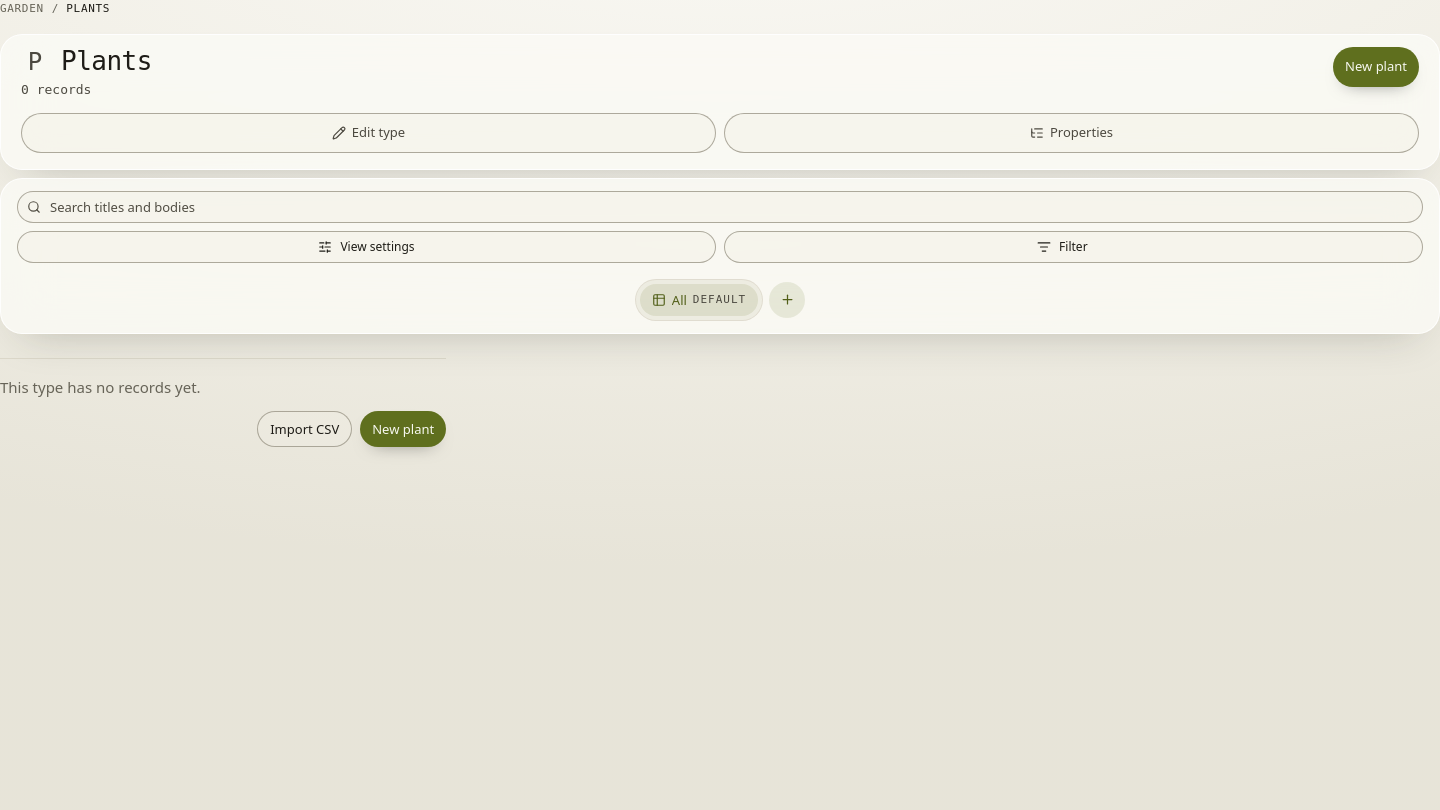
Test: TypeTablePage create › keeps the capture sheet for a type that is not the daily note
Click the button "New plant" in the row of "0 records". click: point(1376, 67)
box: x1=1333 y1=47 x2=1419 y2=87
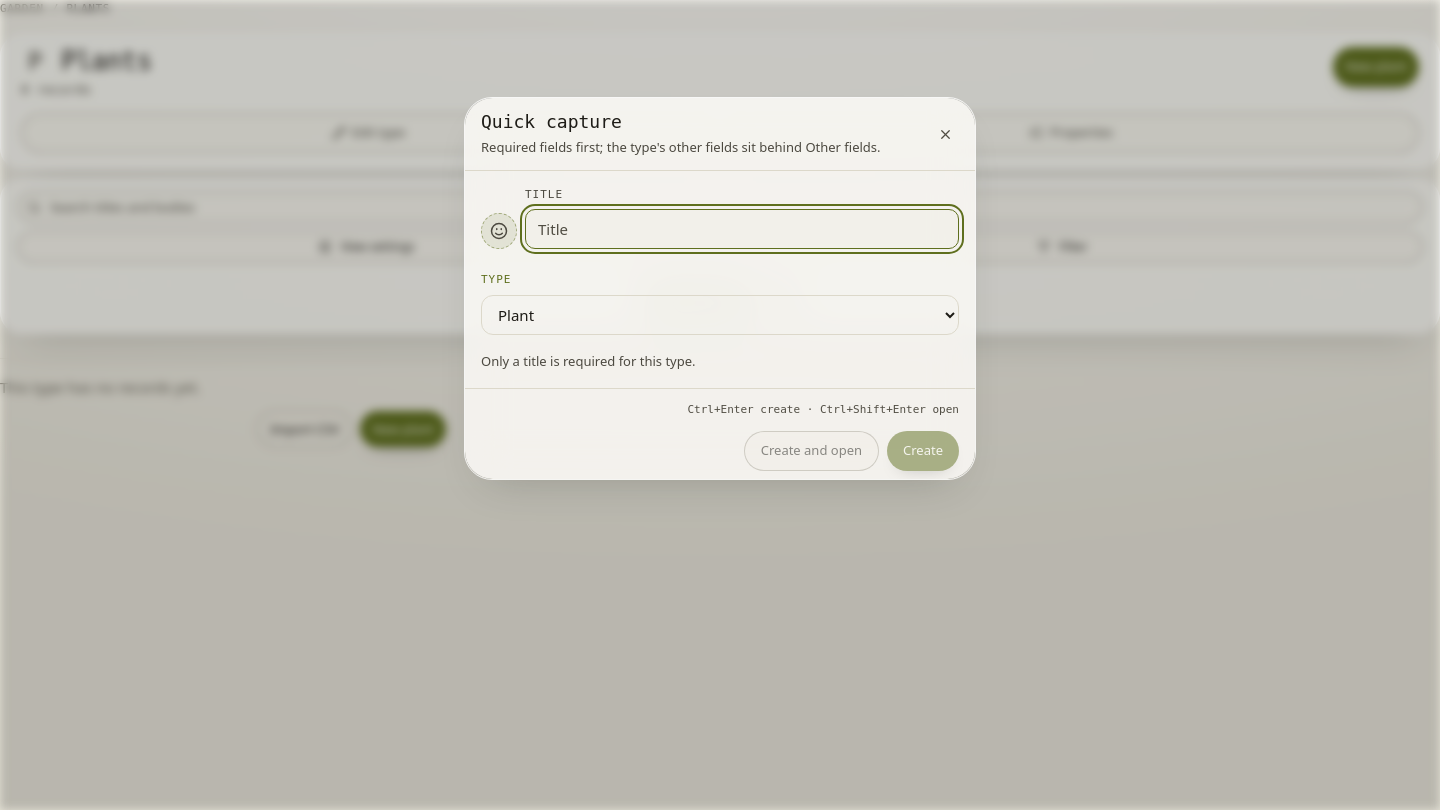
Expected: the field labelled "Title" is shown, x1=525 y1=210 x2=959 y2=250
